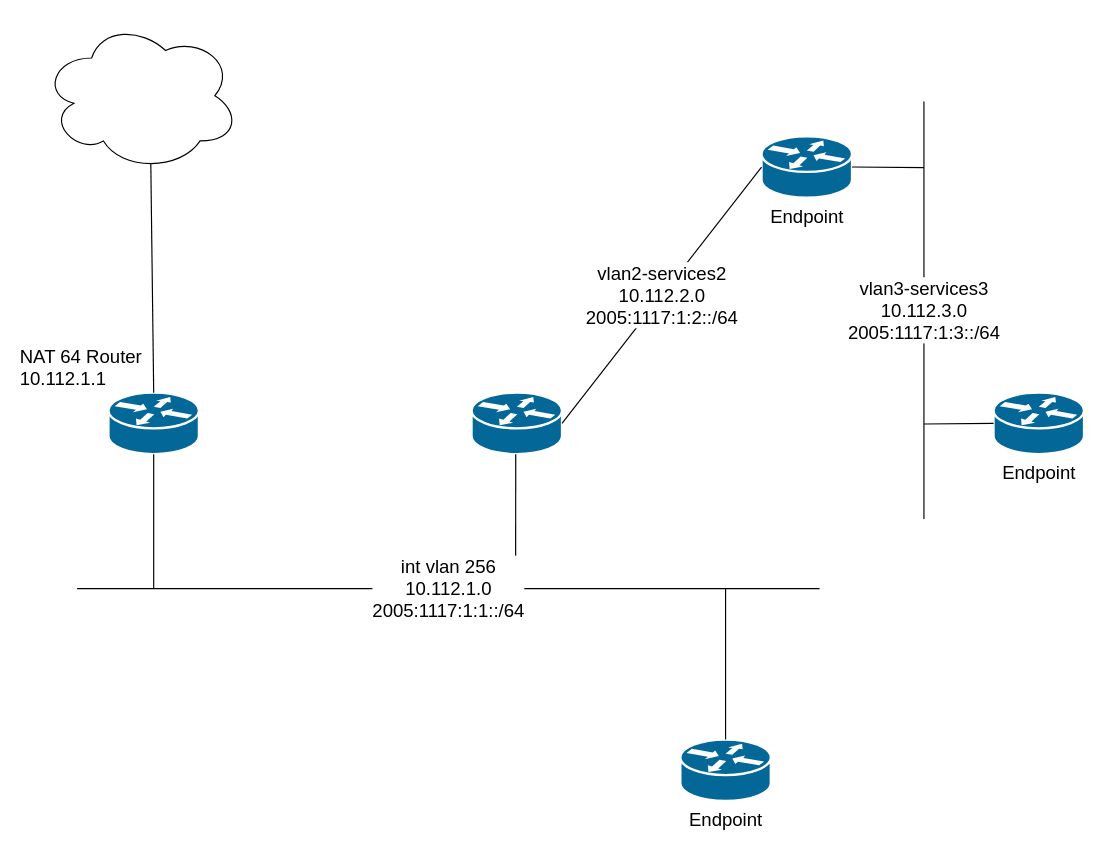
Some shapes in this 1104 by 851 pixel diagram are drawn without their labels. Here are the shapes that lost their labels. From the top down, the centre of each, then its label:
At (x=140, y=95): "Lab".
At (x=516, y=423): "Test Device".
